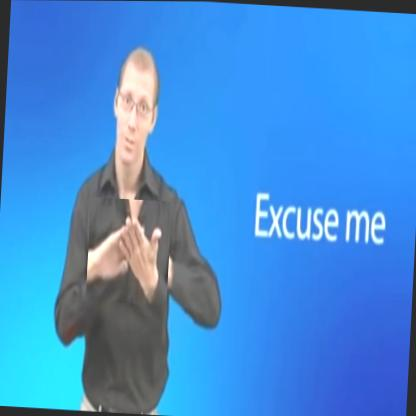ExcuseMe: (85, 197, 171, 305)
